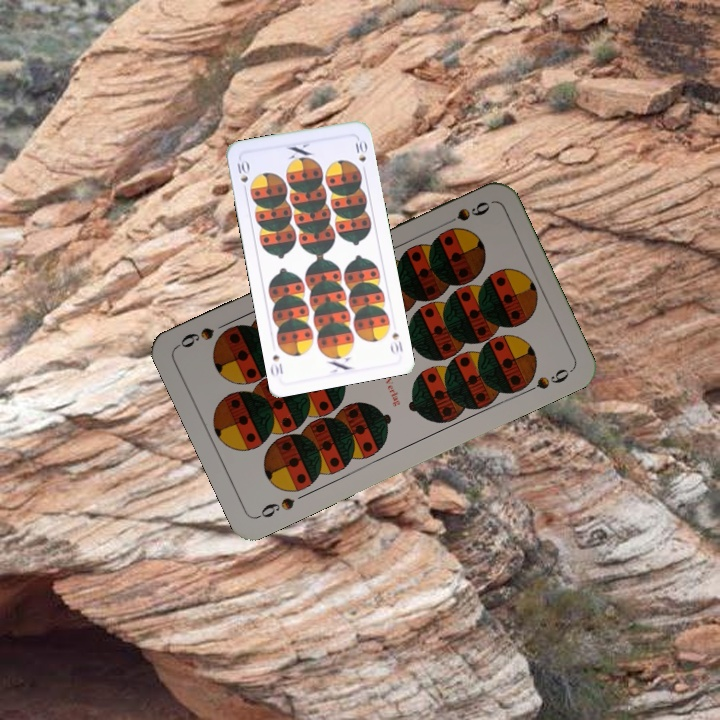S10: (233, 155, 252, 196), (386, 328, 405, 357)
S9: (437, 197, 493, 228), (253, 493, 297, 521)
